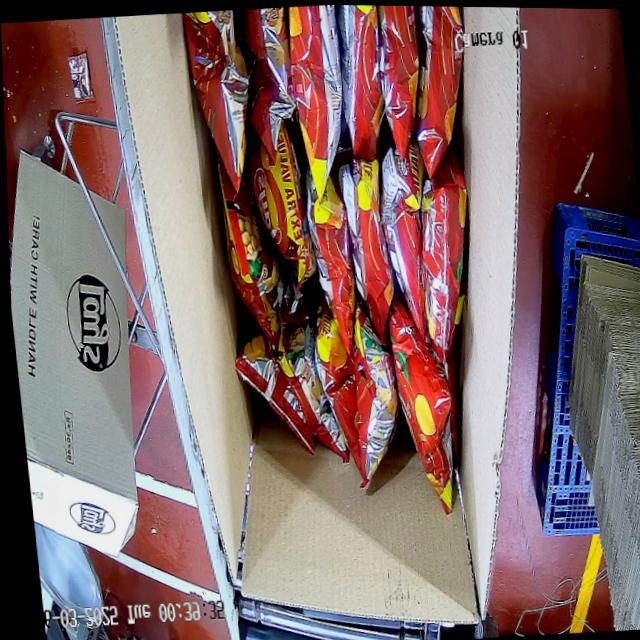MASALA: (180, 3, 514, 527)
